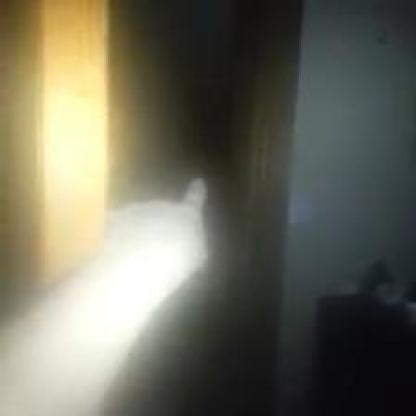other: (28, 232, 160, 369)
